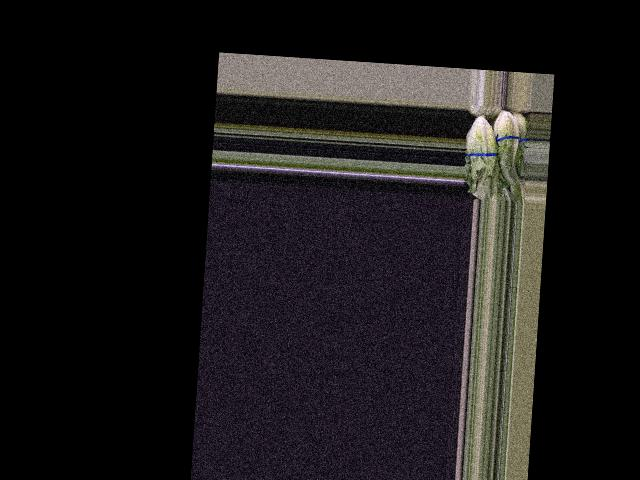lettuce: (490, 108, 526, 186)
